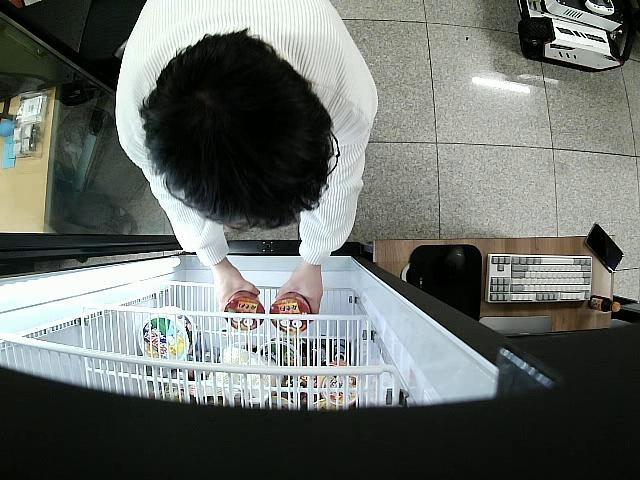06_nuguri_S: (269, 292, 313, 331), (225, 290, 264, 331)
